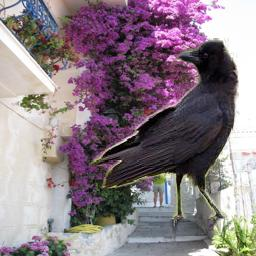Crow: (89, 39, 239, 232)
